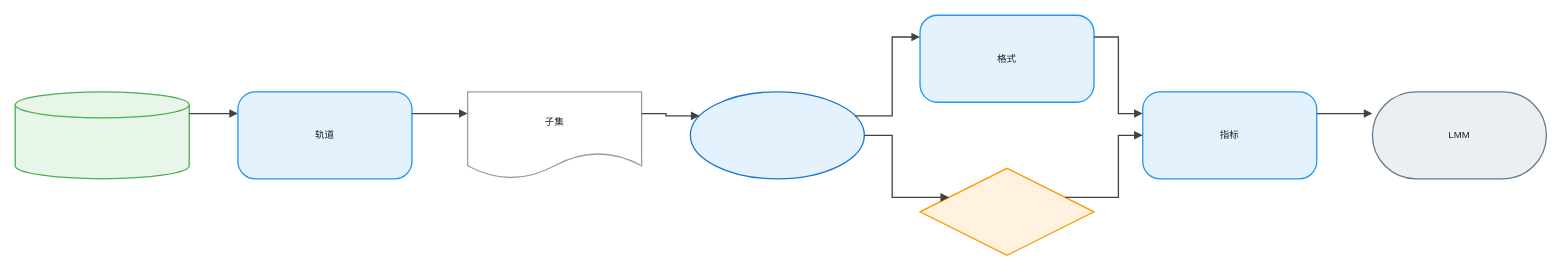
Image size: 1563x271. Some labels were removed from this diagram. Here are the shapes that lost their labels. From the top down, the centre of each, then its label:
(101,135): 来源
(777,135): 标注
(1006,211): 修订
